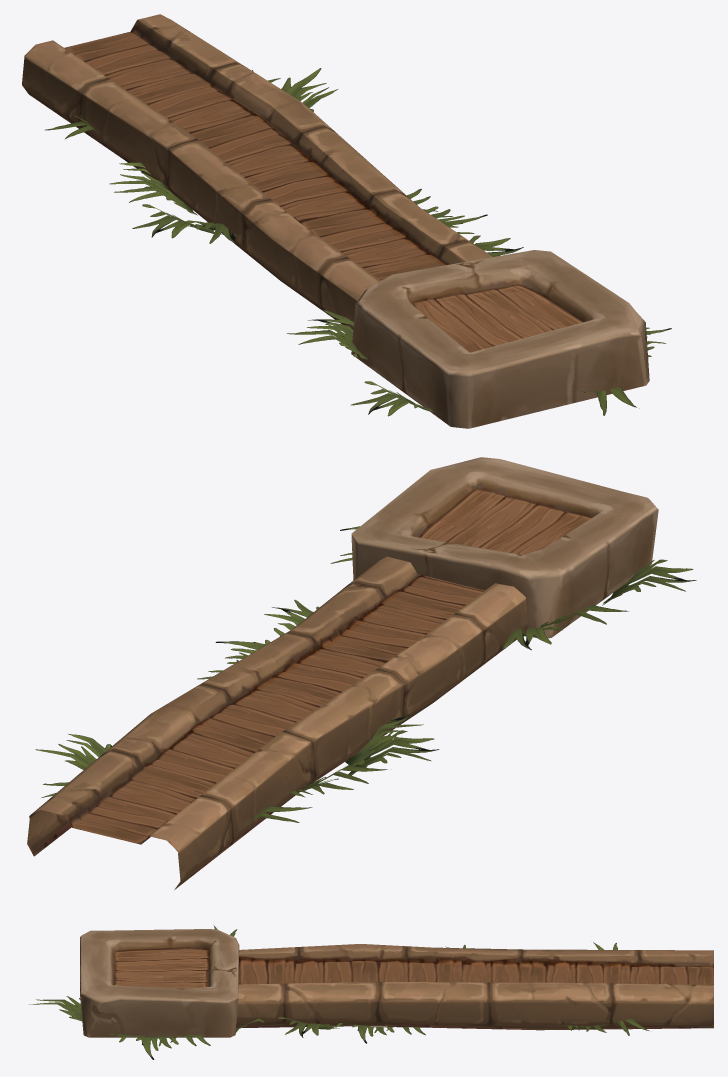
File: Env_low_walls.fbx
3 views of the same model, one above another, from view 1: azimuth 30°, elevation 25°; view 2: azimuth 150°, elevation 25°; view 3: azimuth 270°, elevation 25° (orthographic). The views are drawn at different scales.
Visible parts, largest first — view 1: Walls_wall_geom, Walls_tower_geom, Walls_wall_grass, Walls_tower_grass; view 2: Walls_wall_geom, Walls_tower_geom, Walls_wall_grass, Walls_tower_grass; view 3: Walls_wall_geom, Walls_tower_geom, Walls_tower_grass, Walls_wall_grass.
Boxes of the visible parts, left/top/right/bottom form: Walls_wall_geom: left=22, top=14, right=492, bottom=329; Walls_tower_geom: left=351, top=250, right=649, bottom=428; Walls_wall_grass: left=45, top=68, right=523, bottom=256; Walls_tower_grass: left=287, top=309, right=671, bottom=416; Walls_wall_geom: left=27, top=556, right=528, bottom=889; Walls_tower_geom: left=351, top=457, right=658, bottom=638; Walls_wall_grass: left=35, top=600, right=439, bottom=826; Walls_tower_grass: left=330, top=526, right=696, bottom=650; Walls_wall_geom: left=236, top=944, right=713, bottom=1030; Walls_tower_geom: left=80, top=929, right=239, bottom=1037; Walls_tower_grass: left=29, top=926, right=264, bottom=1059; Walls_wall_grass: left=278, top=942, right=649, bottom=1043.
Bounding box in the file's own units: 884 × 191 × 2174.
3 materials, 3 textured.
